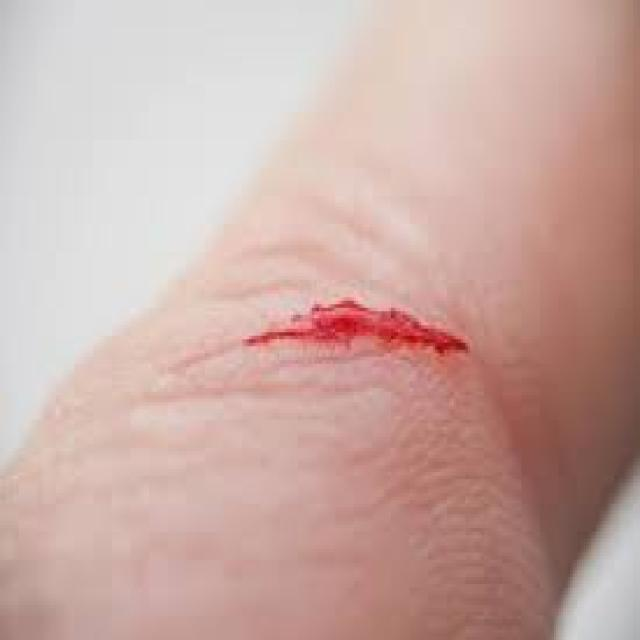wound: (229, 267, 502, 397)
